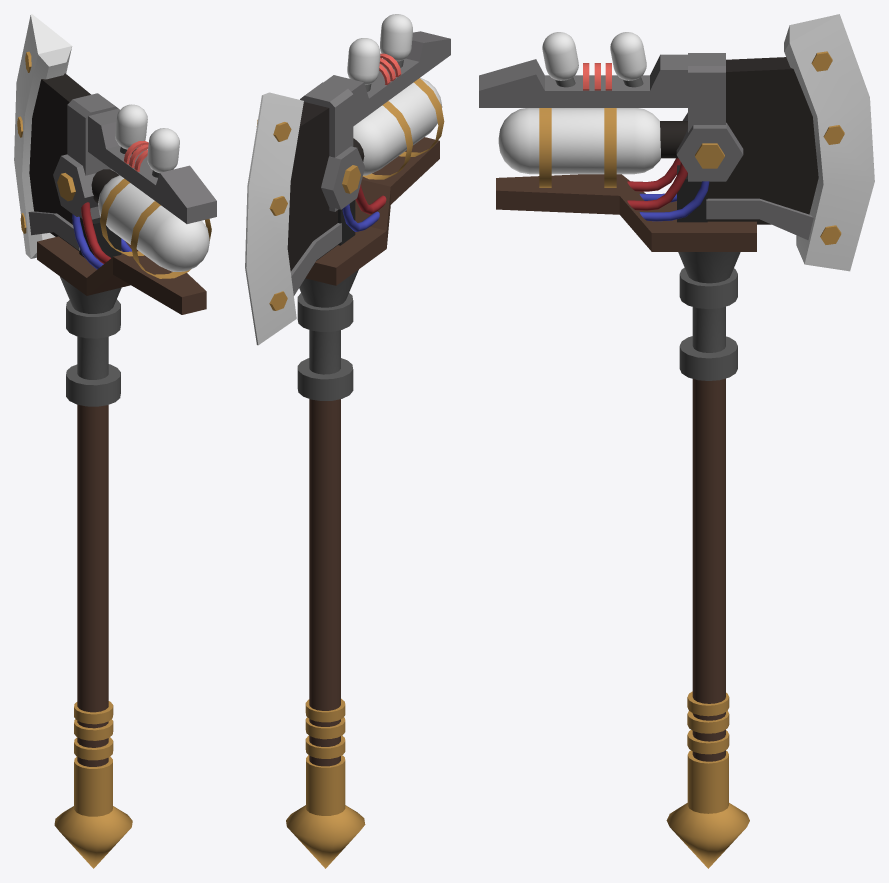
The model's file is axe.glb.
The picture shows the model from 3 angles, left to right: view 1: azimuth 30°, elevation 25°; view 2: azimuth 150°, elevation 25°; view 3: azimuth 270°, elevation 25°; orthographic projection. The views are drawn at different scales.
Parts seen in each view (by area): view 1: Cylinder, Cube.004, Cylinder.008, Cube, Cube.003, Cube.001, Cylinder.001, Cylinder.026, Cube.002, Cylinder.005, Cylinder.004, Cylinder.006 (+9 smaller); view 2: Cylinder, Cube, Cube.004, Cube.001, Cylinder.001, Cylinder.008, Cube.003, Cylinder.026, Cube.002, Cylinder.005, Cylinder.004, Cylinder.013 (+6 smaller); view 3: Cube, Cube.001, Cylinder, Cube.004, Cylinder.008, Cube.003, Cylinder.001, Cylinder.026, Cube.002, Cylinder.013, Cube.006, Cylinder.012 (+9 smaller).
Boxes of the visible parts, x1,y1,x2,y2 form: Cylinder: [77, 404, 108, 766]; Cube.004: [37, 236, 206, 314]; Cylinder.008: [98, 175, 209, 271]; Cube: [14, 14, 72, 258]; Cube.003: [88, 109, 216, 223]; Cube.001: [29, 73, 90, 250]; Cylinder.001: [54, 756, 132, 868]; Cylinder.026: [60, 276, 121, 379]; Cube.002: [67, 93, 119, 219]; Cylinder.005: [66, 364, 120, 406]; Cylinder.004: [74, 701, 113, 760]; Cylinder.006: [66, 299, 120, 338]; Cylinder: [309, 399, 340, 766]; Cube: [245, 92, 303, 345]; Cube.004: [305, 137, 439, 285]; Cube.001: [287, 102, 337, 271]; Cylinder.001: [286, 755, 365, 868]; Cylinder.008: [353, 77, 442, 175]; Cube.003: [324, 31, 450, 126]; Cylinder.026: [299, 269, 358, 374]; Cube.002: [300, 82, 353, 211]; Cylinder.005: [297, 358, 353, 400]; Cylinder.004: [305, 698, 345, 758]; Cylinder.013: [321, 146, 364, 209]; Cube: [784, 14, 874, 271]; Cube.001: [707, 57, 818, 224]; Cylinder: [692, 378, 725, 761]; Cube.004: [496, 174, 756, 251]; Cylinder.008: [498, 108, 660, 174]; Cube.003: [479, 54, 687, 107]; Cylinder.001: [666, 750, 749, 868]; Cylinder.026: [678, 252, 740, 352]; Cube.002: [688, 53, 725, 181]; Cylinder.013: [676, 112, 743, 181]; Cube.006: [706, 198, 813, 239]; Cylinder.012: [539, 108, 616, 187].
Size of the model in its own units: 0.11 by 1.13 by 0.474.
